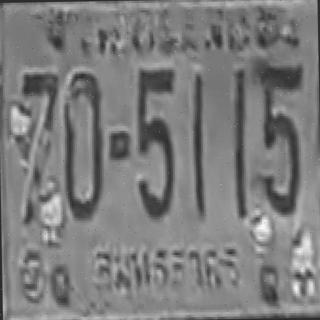N00: (63, 70, 104, 220)
N01: (230, 68, 248, 189), (190, 72, 205, 196)
P58: (82, 239, 247, 294)
